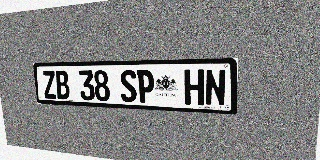3: (79, 70, 95, 101)
8: (93, 70, 110, 101)
B: (55, 70, 70, 100)
H: (184, 69, 204, 105)
N: (205, 69, 226, 106)
P: (136, 70, 155, 103)
S: (119, 70, 137, 102)
Z: (42, 71, 57, 99)
